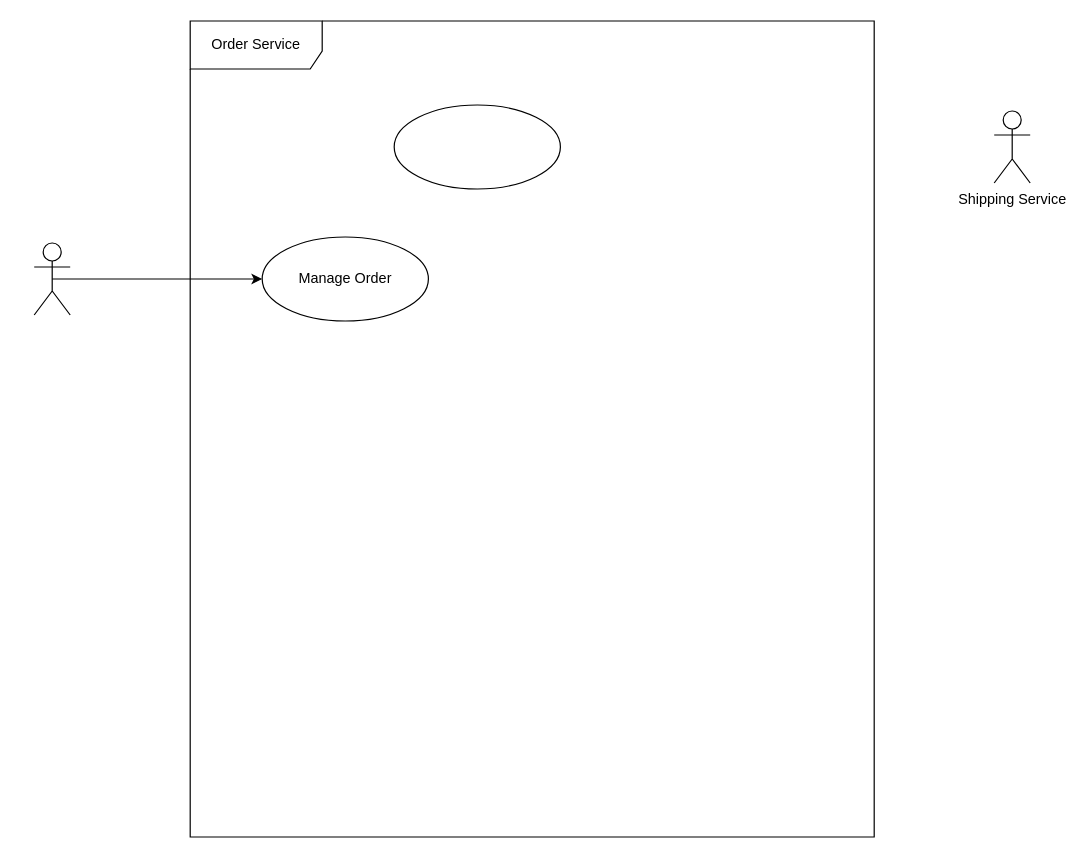
This 1087x858 diagram has some shape labels left out. Here are the shapes that lost their labels. From the top down, the centre of each, then its label:
(476,146): Select/Add New Customer
(51,278): Customer
